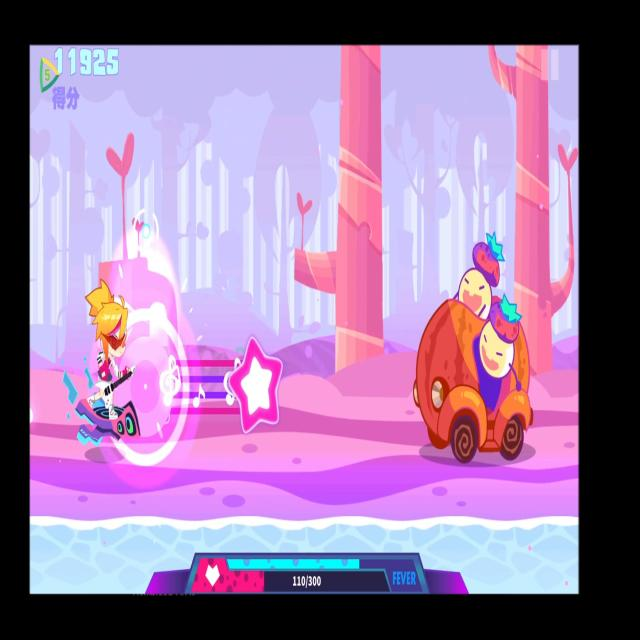cheboss: (404, 222, 540, 474)
hold: (138, 330, 286, 441)
